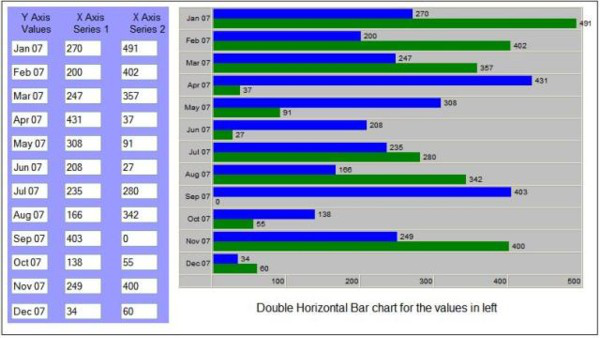canvas: (215, 4, 595, 275)
data: (5, 3, 169, 327)
title: (254, 298, 502, 317)
x-labels: (217, 278, 585, 288)
y-labels: (180, 6, 213, 276)
